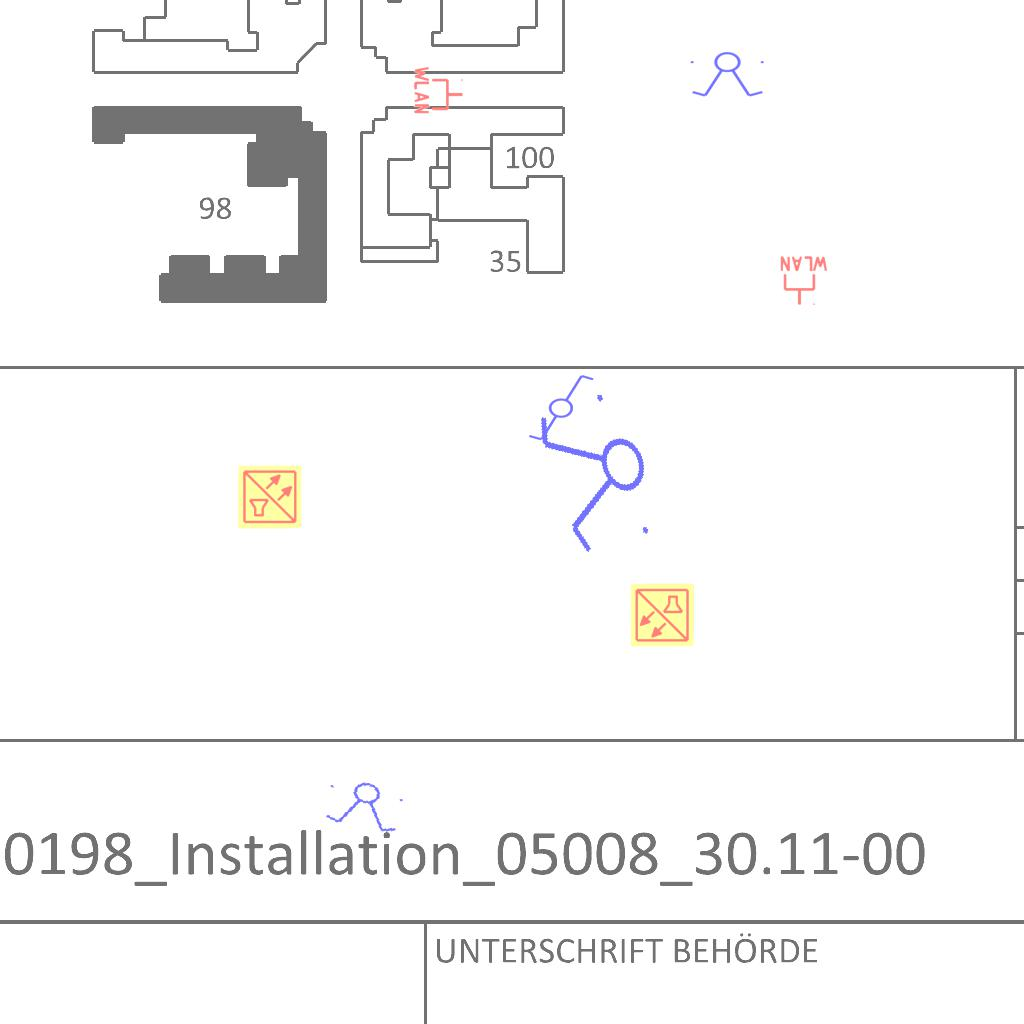OKW_Multisensormelder_(Kombination_optischer_Rauch-Kahlenmonoxid_Waerme-Melder): (629, 582, 695, 648), (237, 464, 303, 530)
Serienschalter: (526, 378, 672, 570), (319, 774, 411, 838), (686, 51, 770, 99)
WLAN: (778, 255, 830, 307), (413, 64, 465, 116)
Wechselschalter: (518, 371, 596, 443)
